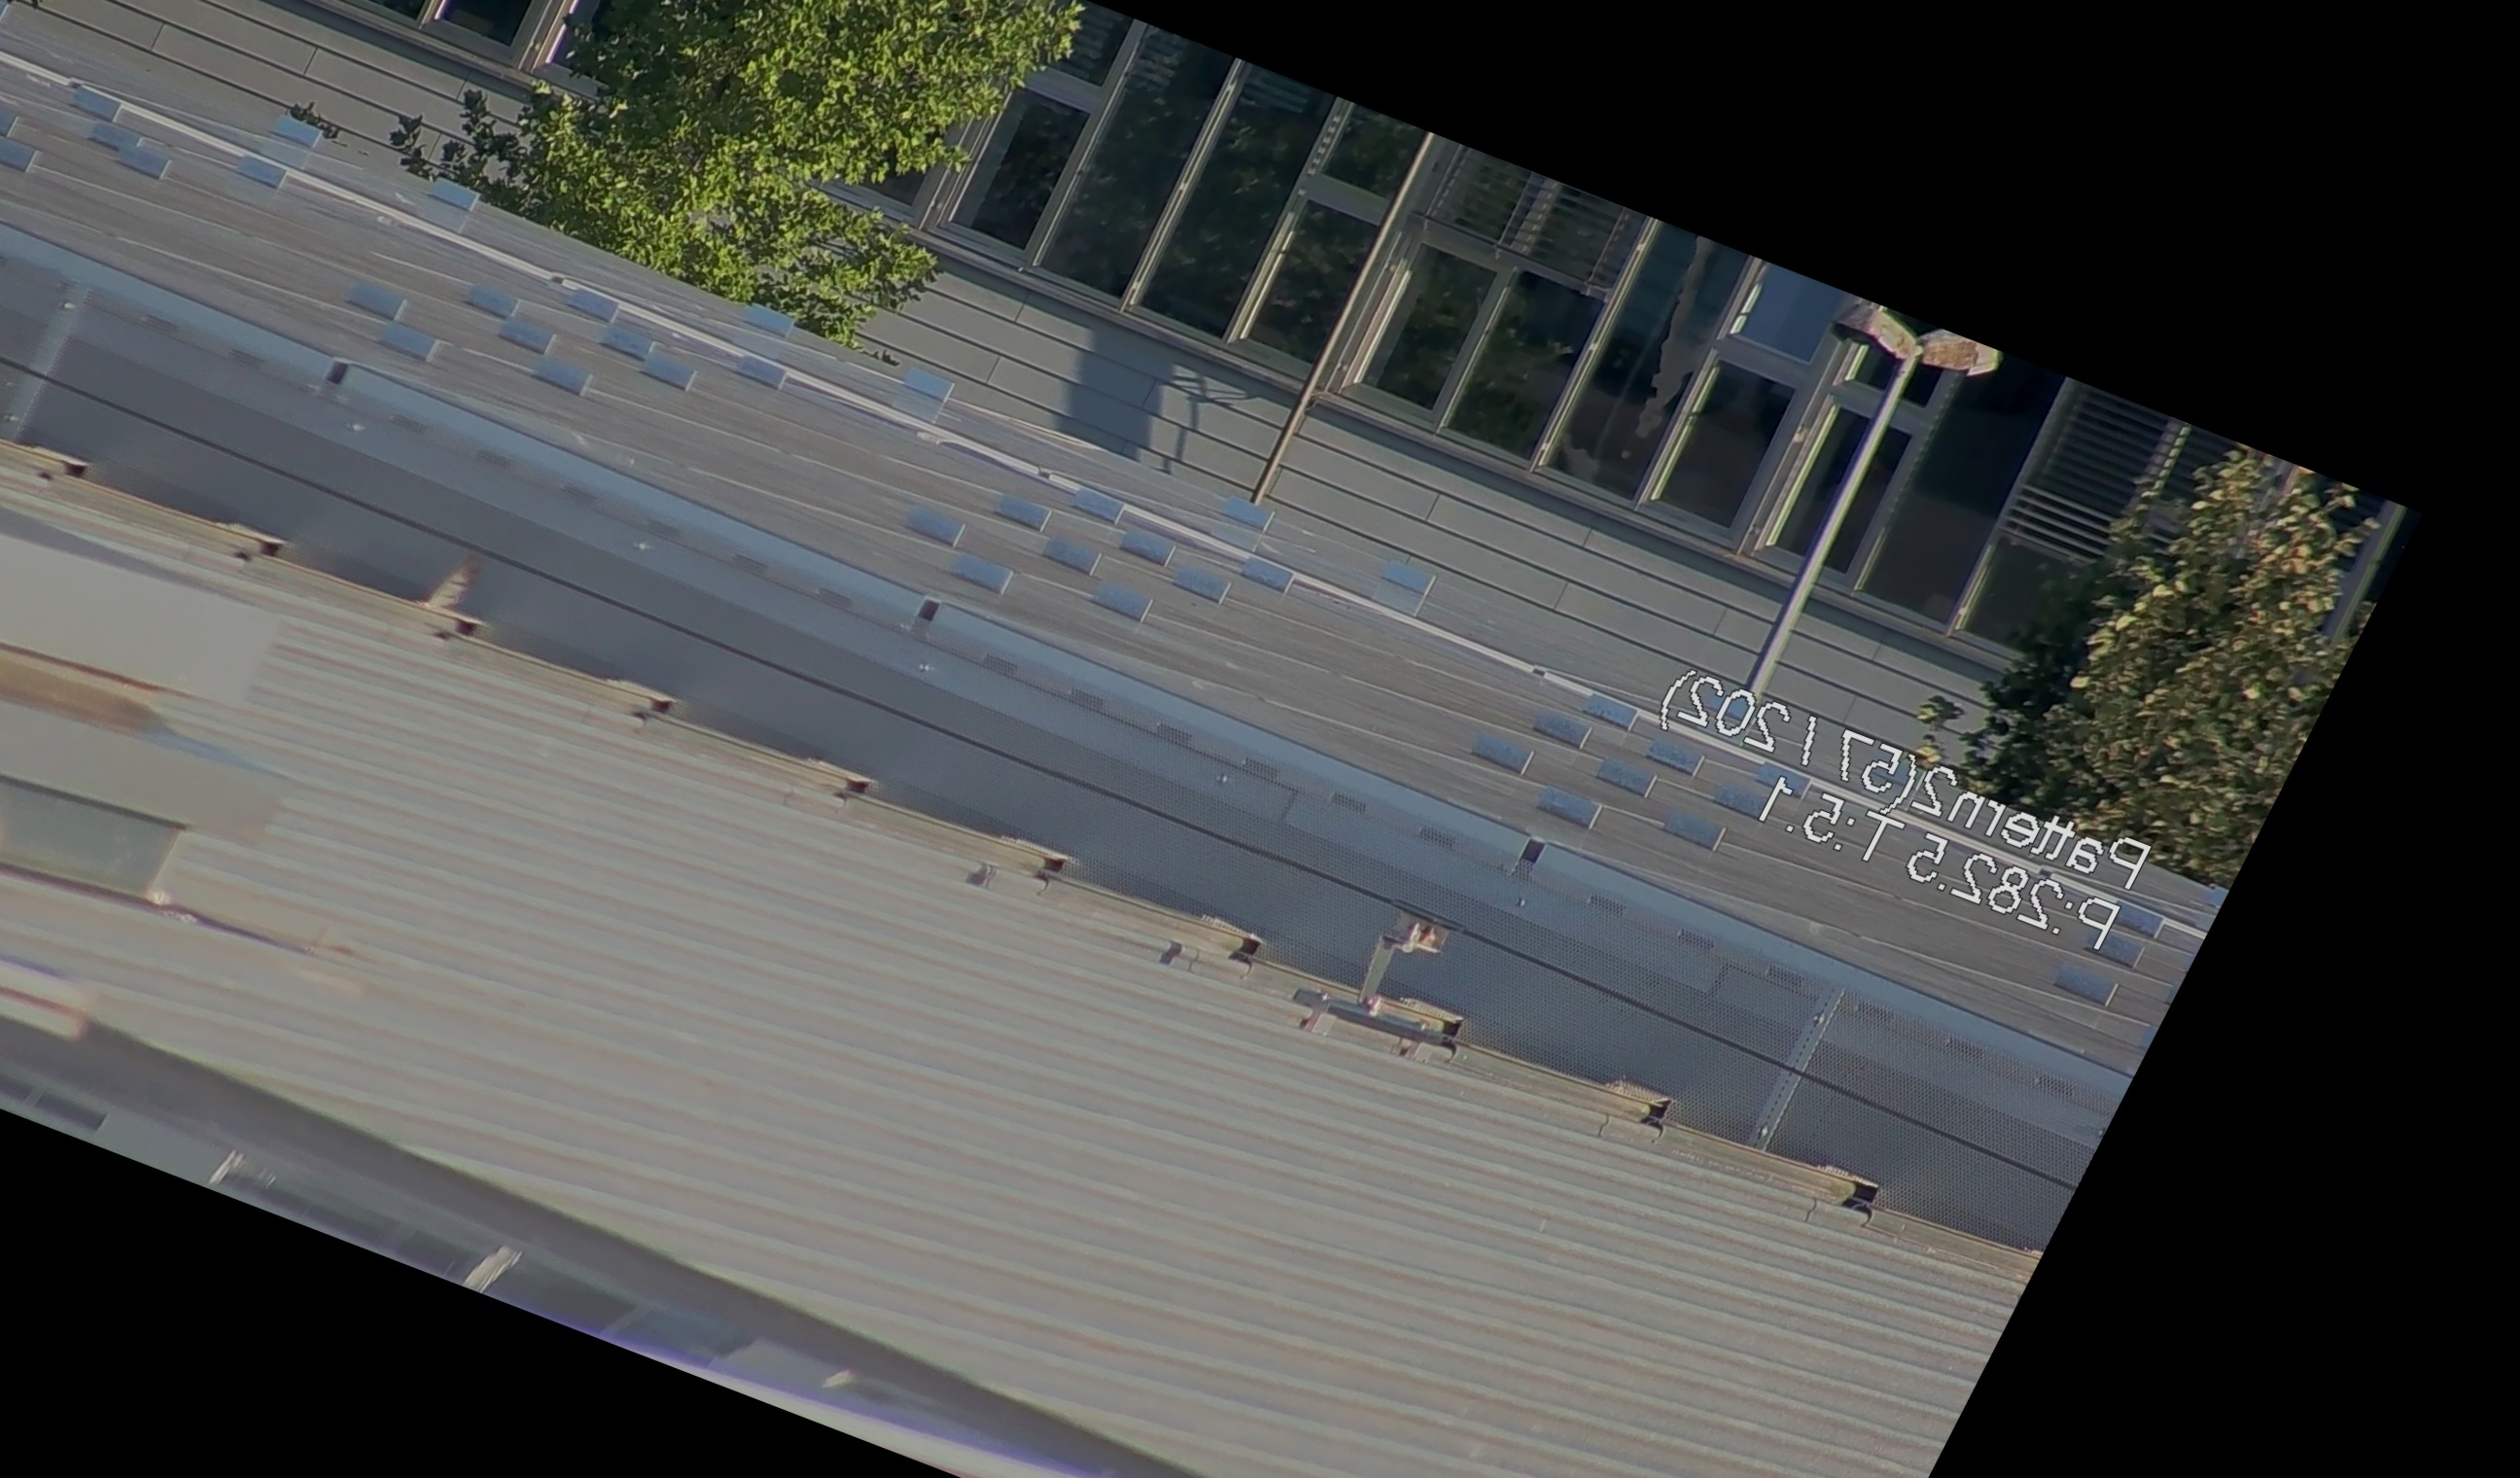Other: (392, 528, 513, 653)
